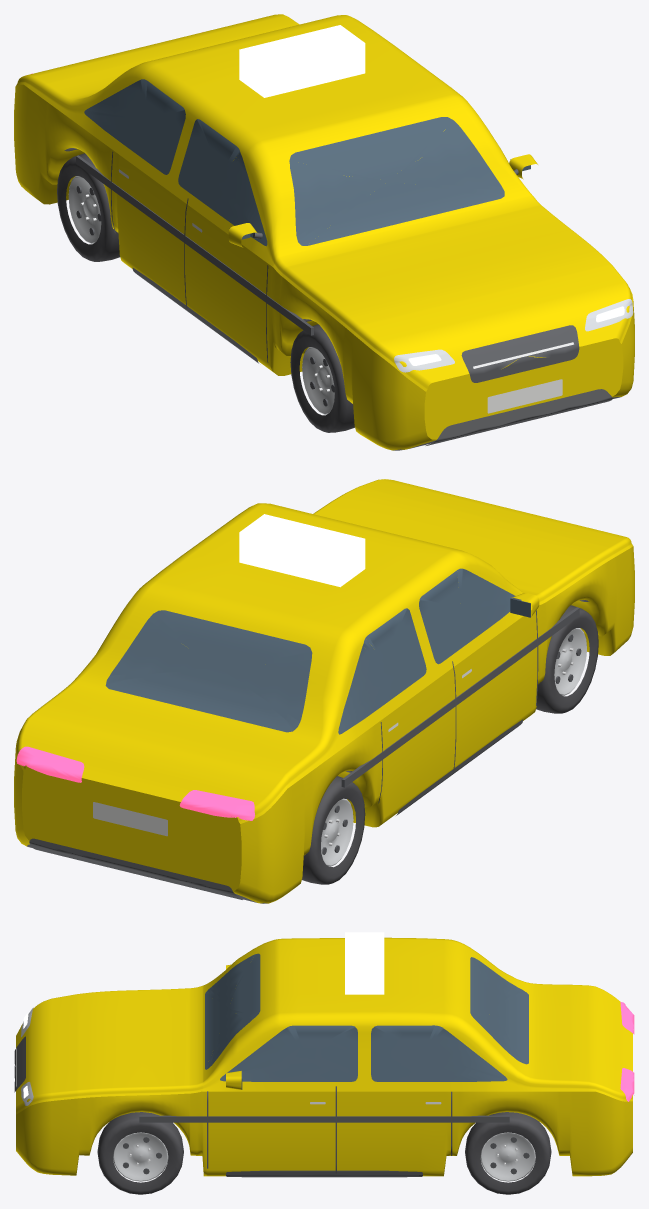
File: car-taxi.glb
3 views of the same model, one above another, from view 1: azimuth 30°, elevation 25°; view 2: azimuth 150°, elevation 25°; view 3: azimuth 270°, elevation 25° (orthographic). The views are drawn at different scales.
Visible parts, largest first — view 1: car-taxi; view 2: car-taxi; view 3: car-taxi.
Boxes of the visible parts, bbox=[...] form: car-taxi: bbox=[14, 14, 634, 450]; car-taxi: bbox=[14, 479, 634, 903]; car-taxi: bbox=[14, 932, 634, 1194].
Bounding box in the file's own units: 2.1 × 1.65 × 4.73.
